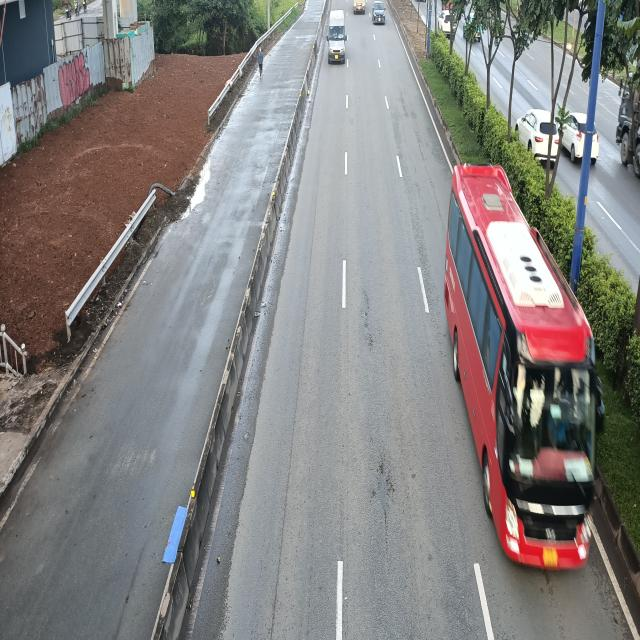car: (373, 0, 386, 24)
coach: (442, 163, 605, 571)
van: (328, 6, 348, 62)
